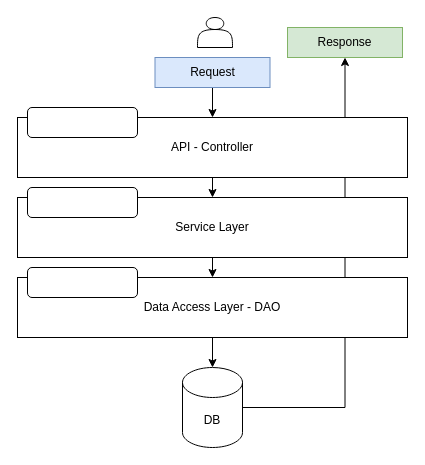
Image size: 425x465. Some labels were removed from this diagram. Each missing label, with the centre of its shape:
"Business Logic" belongs at (82,202).
"Data Base" belongs at (82,282).
"HTTP : GET, POST, PUT, DELETE" belongs at (82,122).
